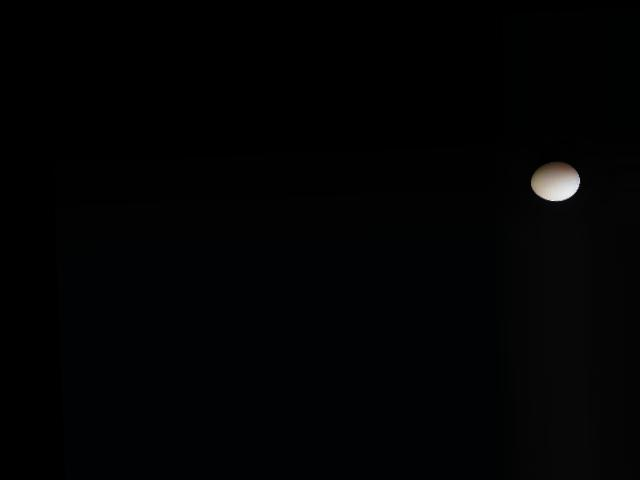egg: (529, 160, 579, 202)
